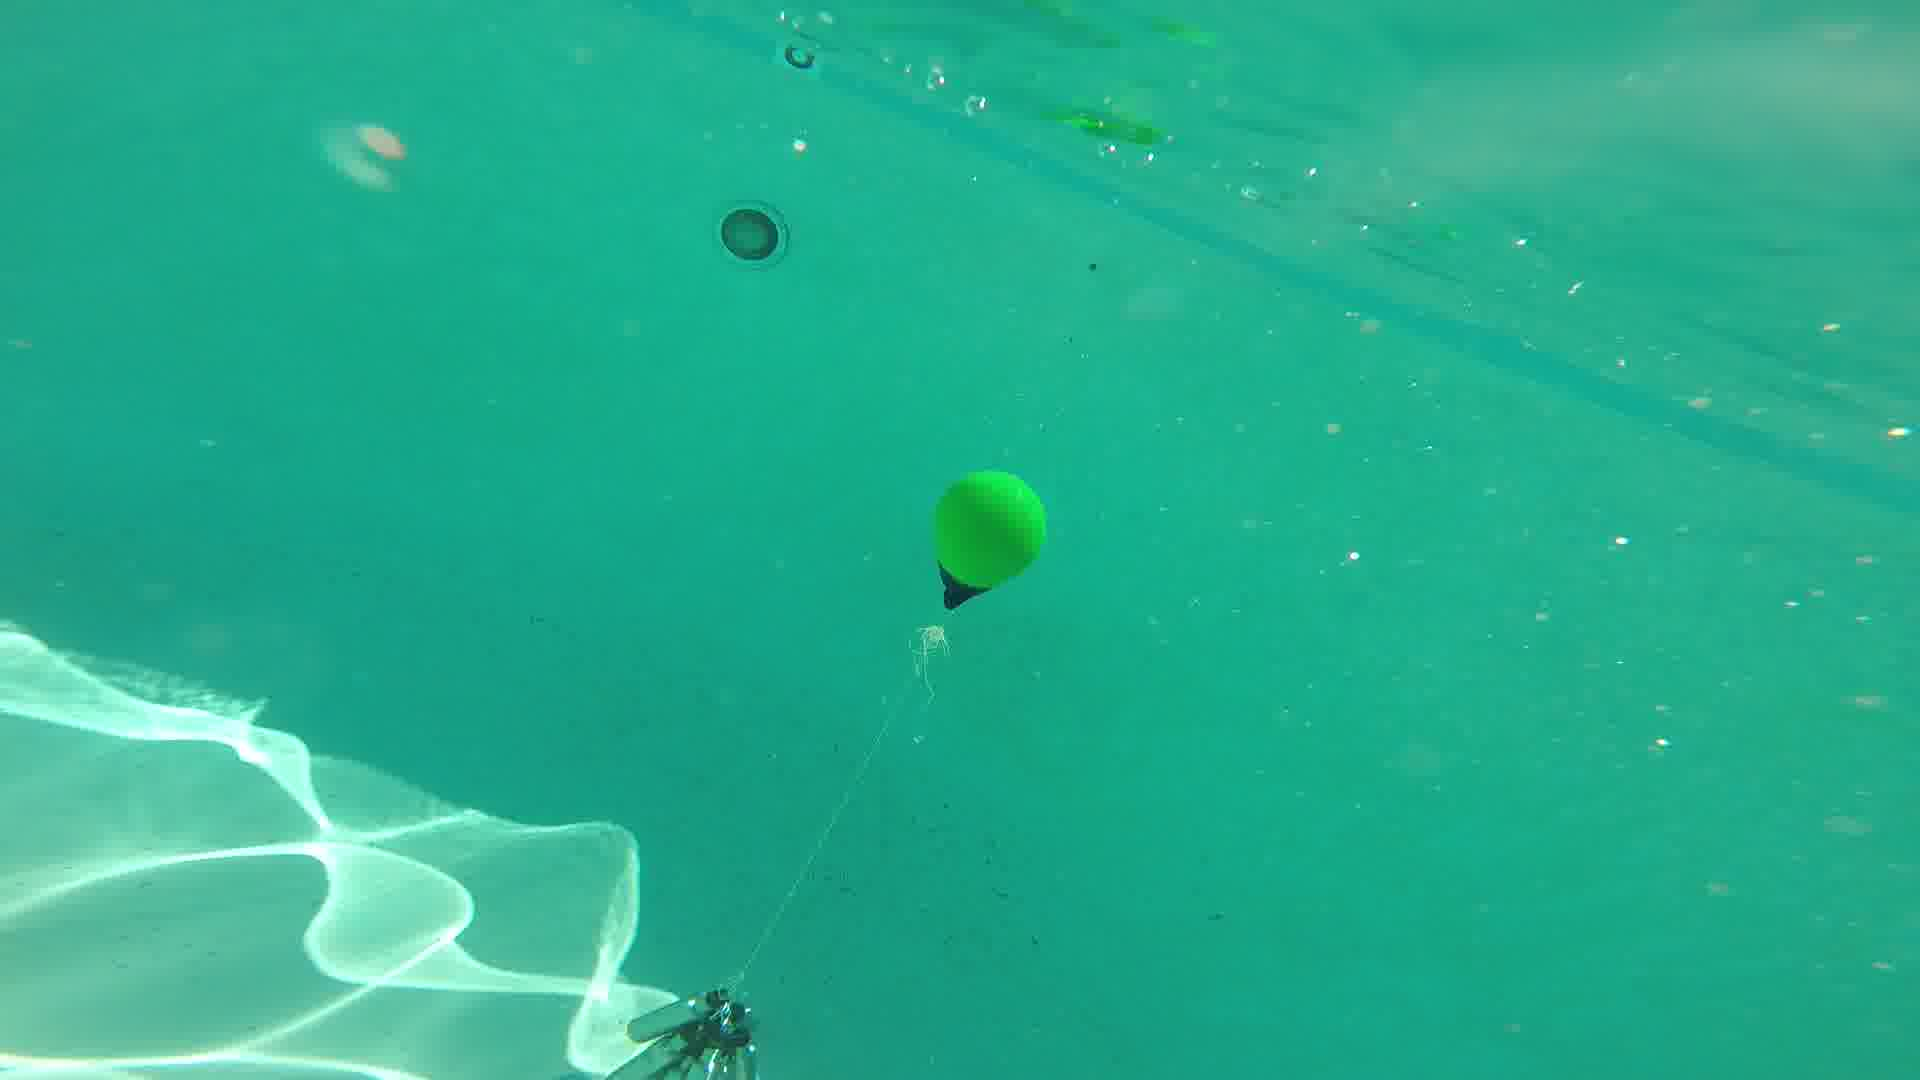yellow_buoy: (935, 467, 1047, 612)
